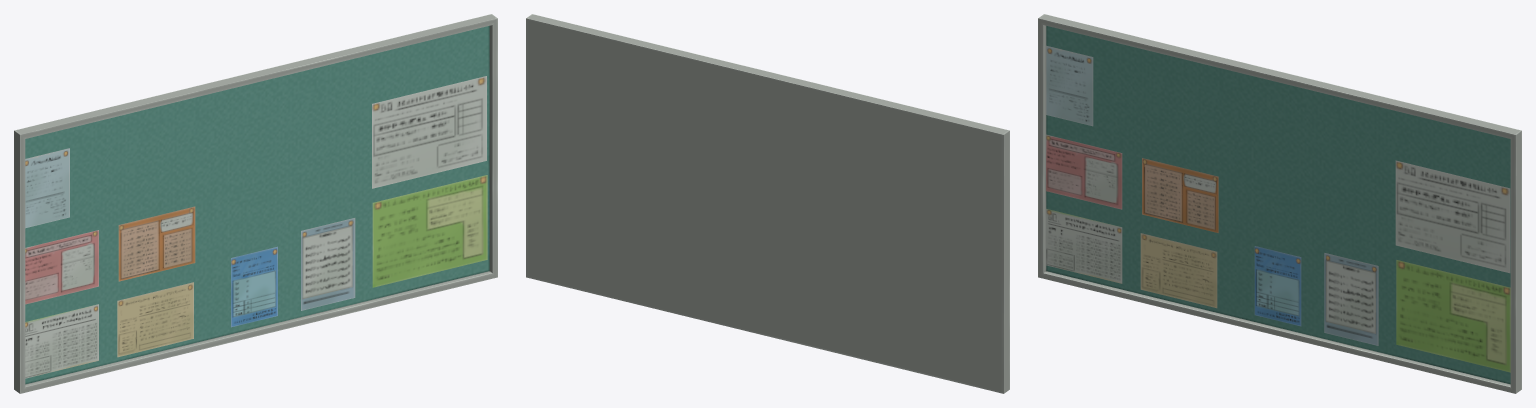
Rendered from Board_01_02.fbx.
3 views of the same model, side by side, from view 1: azimuth 30°, elevation 25°; view 2: azimuth 150°, elevation 25°; view 3: azimuth 330°, elevation 25° (orthographic).
Visible parts, largest first — view 1: board01_01, paperA4_03, paperA4_02, paperA4_05, paperA4_01, paperA4_06, paperA4_07, paperA4_04, paperB5_02, paperB5_01; view 2: board01_01; view 3: board01_01, paperA4_02, paperA4_03, paperA4_06, paperA4_01, paperA4_04, paperA4_07, paperA4_05, paperB5_01, paperB5_02.
Boxes of the visible parts, x1=… form: board01_01: x1=14, y1=14, x2=497, y2=393; paperA4_03: x1=372, y1=175, x2=487, y2=287; paperA4_02: x1=372, y1=76, x2=486, y2=188; paperA4_05: x1=118, y1=206, x2=195, y2=281; paperA4_01: x1=301, y1=218, x2=355, y2=310; paperA4_06: x1=117, y1=282, x2=193, y2=357; paperA4_07: x1=25, y1=304, x2=98, y2=378; paperA4_04: x1=25, y1=230, x2=98, y2=304; paperB5_02: x1=231, y1=246, x2=277, y2=327; paperB5_01: x1=25, y1=148, x2=69, y2=228; board01_01: x1=526, y1=14, x2=1009, y2=393; board01_01: x1=1038, y1=14, x2=1521, y2=393; paperA4_02: x1=1395, y1=160, x2=1510, y2=273; paperA4_03: x1=1396, y1=260, x2=1510, y2=372; paperA4_06: x1=1140, y1=233, x2=1217, y2=308; paperA4_01: x1=1324, y1=253, x2=1378, y2=345; paperA4_04: x1=1046, y1=134, x2=1122, y2=209; paperA4_07: x1=1046, y1=208, x2=1122, y2=283; paperA4_05: x1=1142, y1=158, x2=1218, y2=232; paperB5_01: x1=1046, y1=45, x2=1093, y2=126; paperB5_02: x1=1254, y1=246, x2=1301, y2=326.
Bounding box in the file's own units: 185 × 96 × 4.
